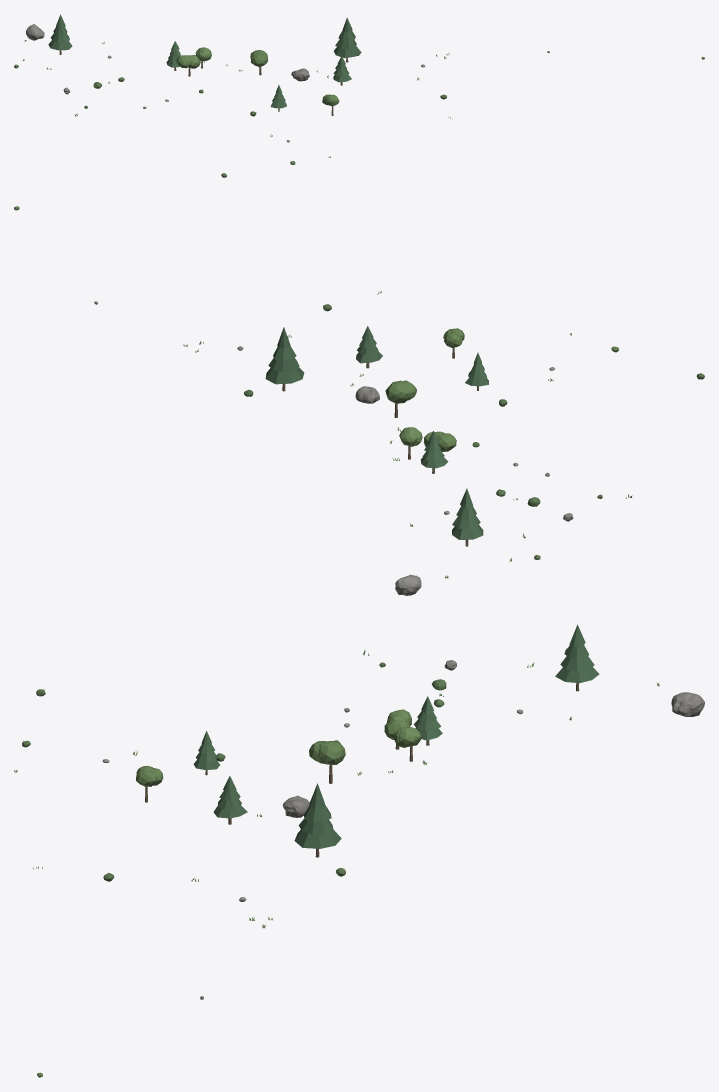
File: arch_land_scatter_c19_21.glb
3 views of the same model, one above another, from view 1: azimuth 30°, elevation 25°; view 2: azimuth 150°, elevation 25°; view 3: azimuth 270°, elevation 25° (orthographic). The views are drawn at different scales.
Parts seen in each view (by area): view 1: arch_land_scatter_c19_21; view 2: arch_land_scatter_c19_21; view 3: arch_land_scatter_c19_21.
Boxes of the visible parts, x1,y1,x2,y2 form: arch_land_scatter_c19_21: (14, 14, 704, 177); arch_land_scatter_c19_21: (14, 206, 704, 595); arch_land_scatter_c19_21: (14, 624, 704, 1077).
Size of the model in its own units: 193 by 19.75 by 133.
